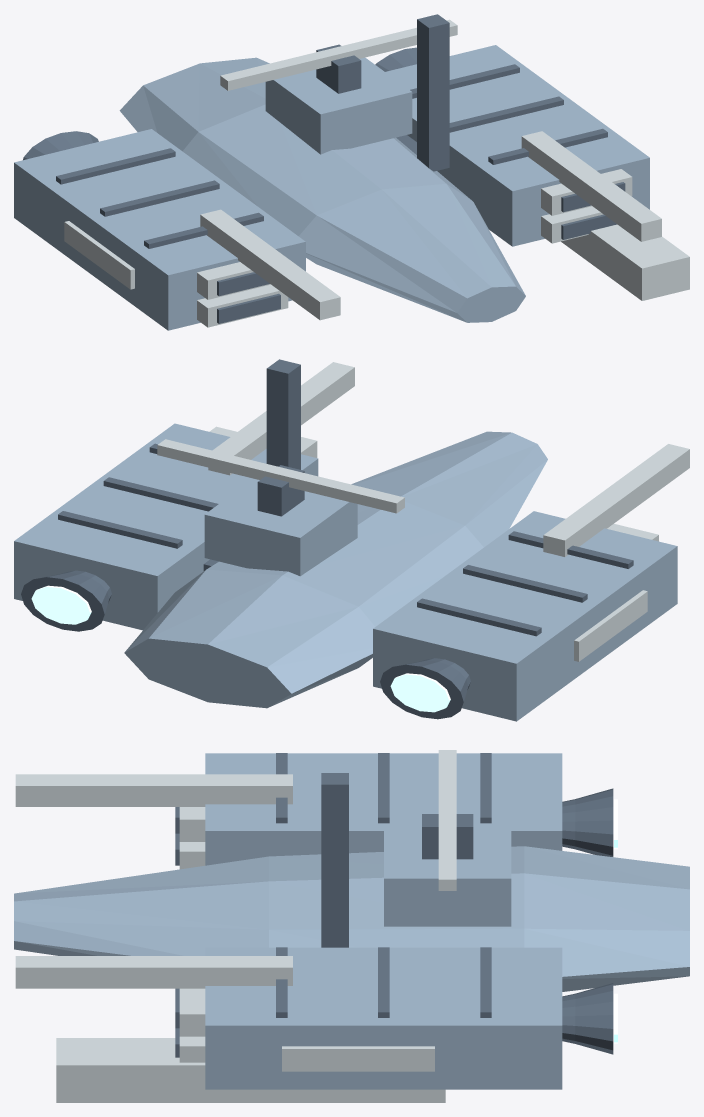
3 renders of one model, top to bottom at view 1: azimuth 30°, elevation 25°; view 2: azimuth 150°, elevation 25°; view 3: azimuth 270°, elevation 25°, orthographic. The views are drawn at different scales.
Bounding box in the file's own units: 11.36 × 4.72 × 11.69.
